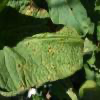Tomato Septoria leaf spot: (1, 23, 86, 97)
